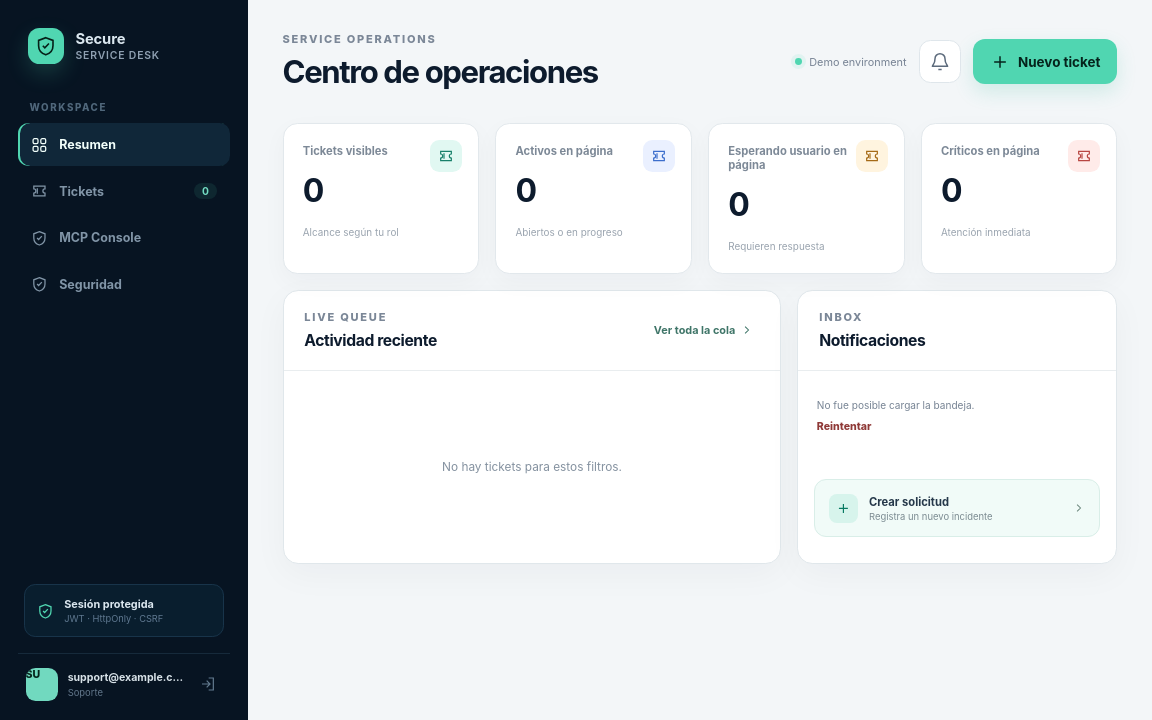
Scenario: Workspace › distinguishes notification failure from a legitimately empty inbox
The width and height of the screenshot is (1152, 720).
Expected: the text "No fue posible cargar la bandeja." is shown, [817,399,974,411]
Click the button "Reintentar": click(844, 427) [817,420,871,435]
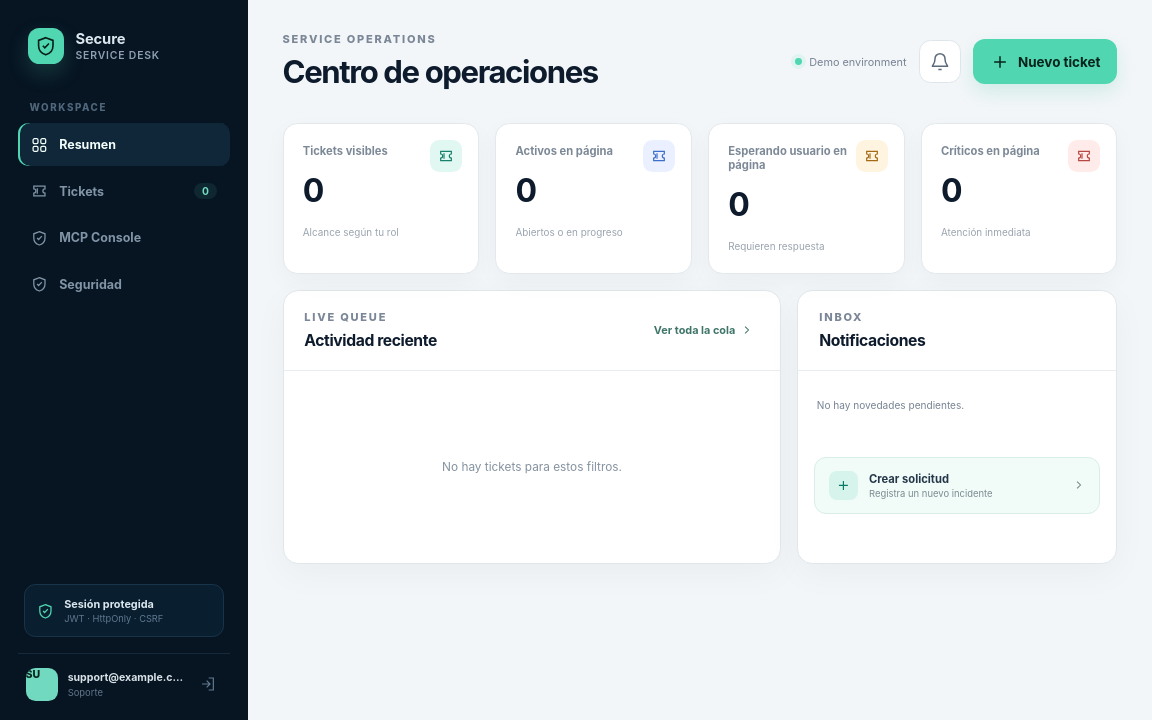
Result: the text "No hay novedades pendientes." is shown at [817,399,964,411]
